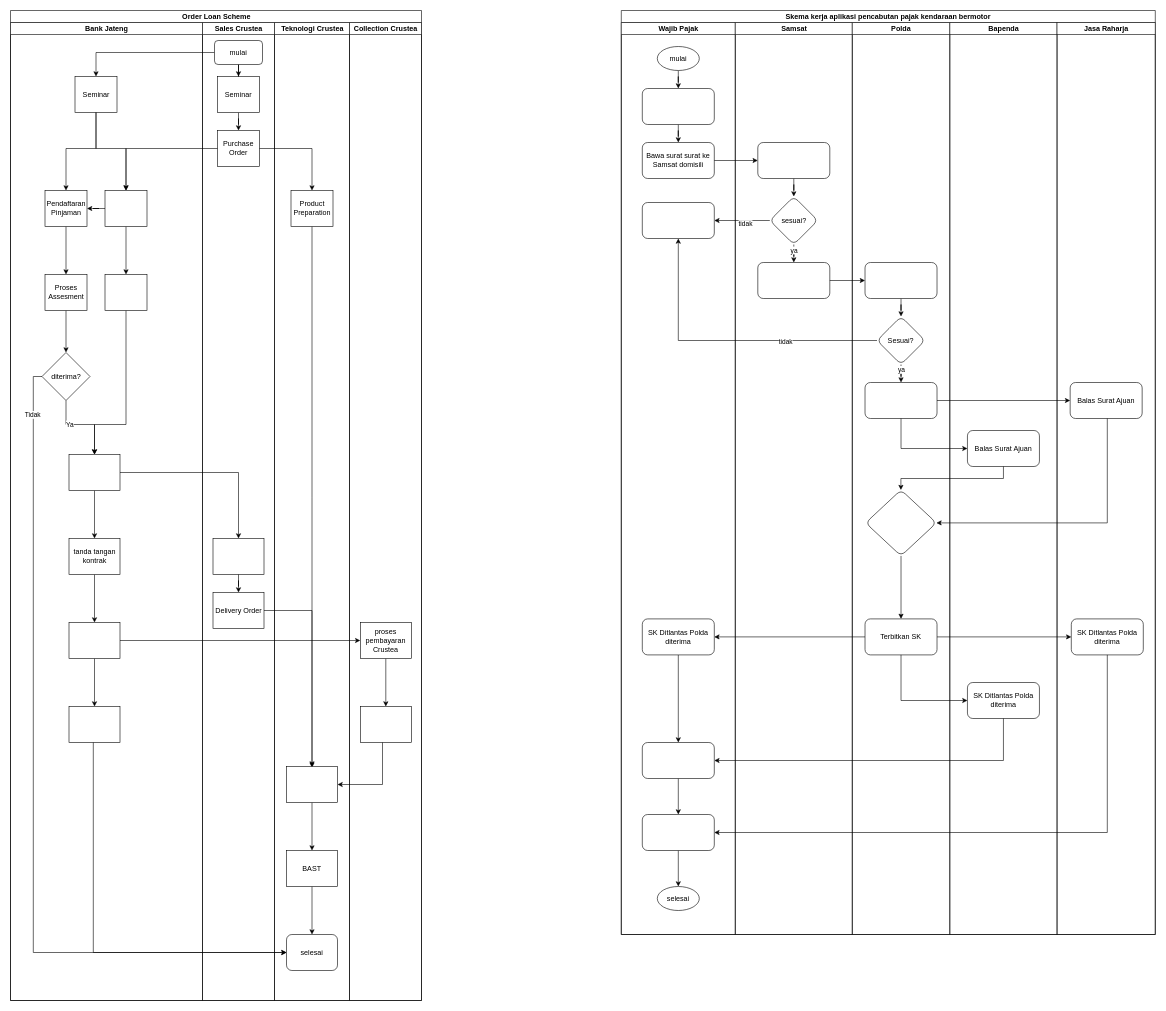
Image size: 1166x1011. Some labels were removed from this diagram. Each missing label, with the centre of its shape:
Ajukan surat ke Ditlantas Polda: the point at 793,280
Bapenda & JR setuju?: the point at 900,522
Buat surat pengajuan: the point at 900,400
Cek kesesuaian data: the point at 793,160
Ditolak: the point at 678,220
Input Data kendaraan: the point at 678,106
kredit cair: the point at 94,640
Pemasangan: the point at 312,784
pembayaran sukses: the point at 385,724
penagihan: the point at 94,724
Pendaftaran Rekening: the point at 125,208
Rekening Jadi: the point at 125,292
serah terima rekening: the point at 94,472
SK Bapenda diterima: the point at 678,760
SK Jasa Raharja diterima: the point at 678,832
tanda tangan form transfer: the point at 238,556
Verifikasi Data: the point at 900,280
